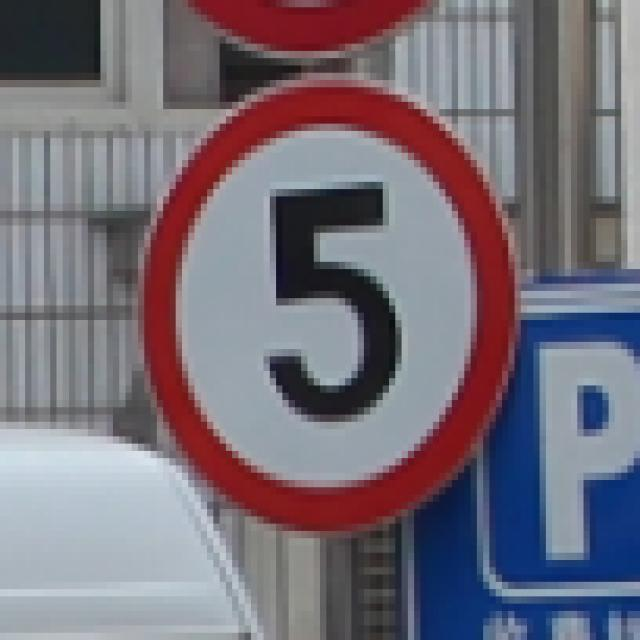Speed: (117, 70, 564, 538)
